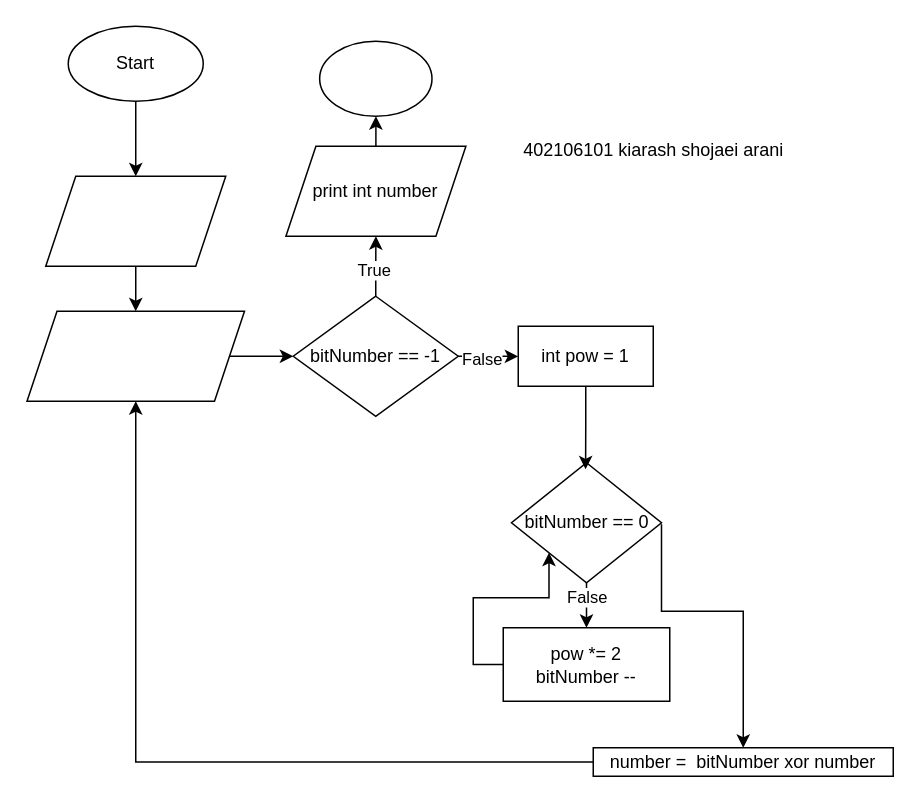
The diagram is 920 pixels wide and 803 high, and some of its shapes have lost their labels. The centre of each missing label's shape, as x and y in pixels:
End: [375,78]
input int bitNumber: [135,355]
input int number: [135,220]
